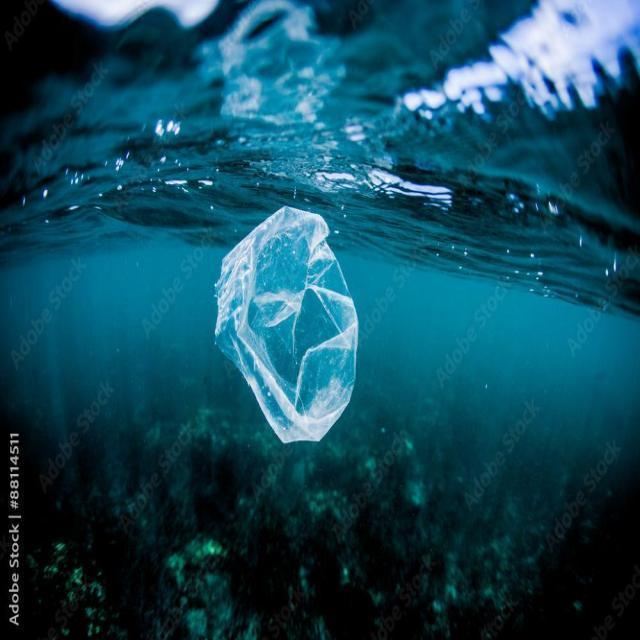Plastic_Bag: (210, 199, 363, 454)
